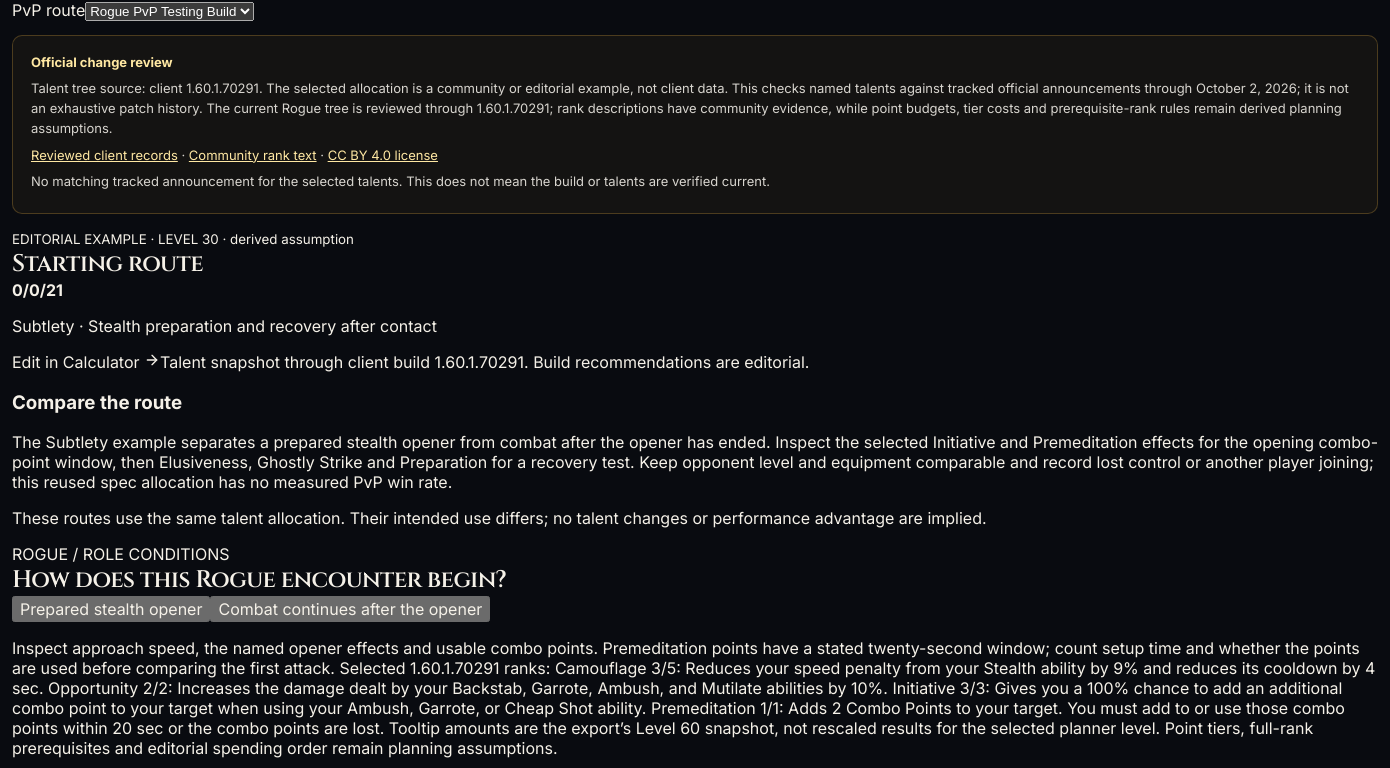
Test: does not present identical current 70291 Rogue allocations as different PvP toolkits
Expected: the dropdown labelled "PvP route" shows "Rogue PvP Testing Build", [85, 2, 254, 21]
Expected: the text "Level 60 snapshot, not rescaled results" is shown, [12, 638, 1375, 758]
Step 1. Click the button "Combat continues after the opener" → [350, 609], box [210, 596, 490, 622]
(page scrolled)
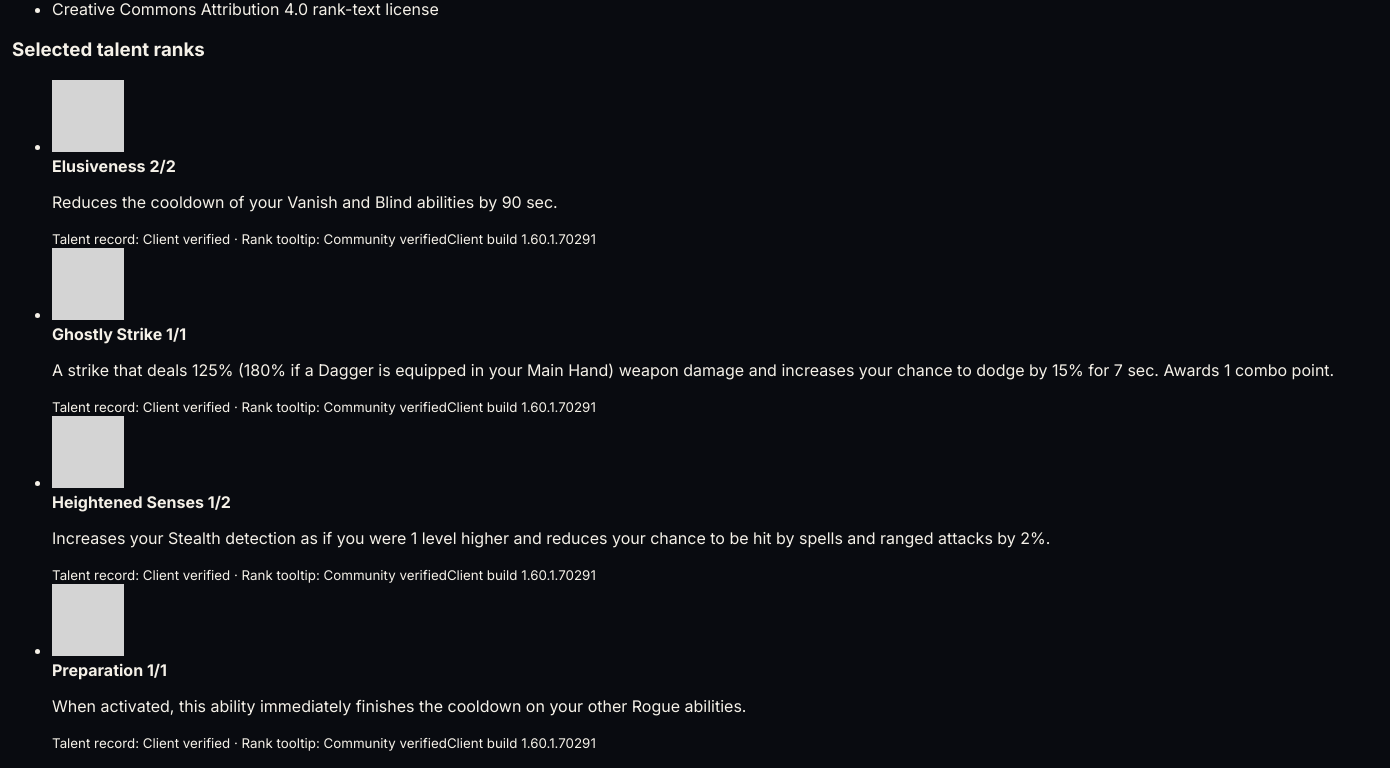
Expected: the text "A strike that deals 125% (180% if a Dagger is equipped in your Main Hand) weapon damage and increases your chance to dodge by 15% for 7 sec. Awards 1 combo poin" is shown, [52, 360, 1334, 380]
Expected: the text "Reduces the cooldown of your Vanish and Blind abilities by 90 sec." is shown, [52, 192, 558, 212]
Expected: the text "Increases your Stealth detection as if you were 1 level higher and reduces your chance to be hit by spells and ranged attacks by 2%." is shown, [52, 528, 1050, 548]
